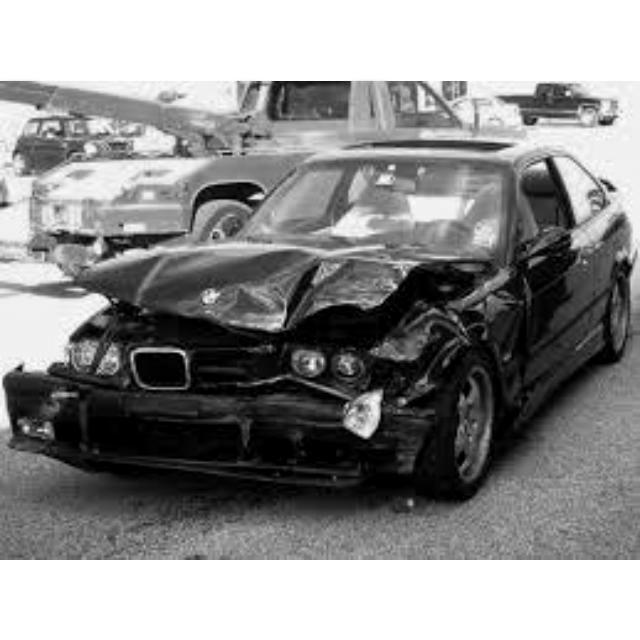Headlight-damage: (305, 302, 440, 386), (20, 323, 148, 392)
bonnet-dent: (105, 234, 448, 322)
front-bumper-dent: (33, 377, 376, 483)
